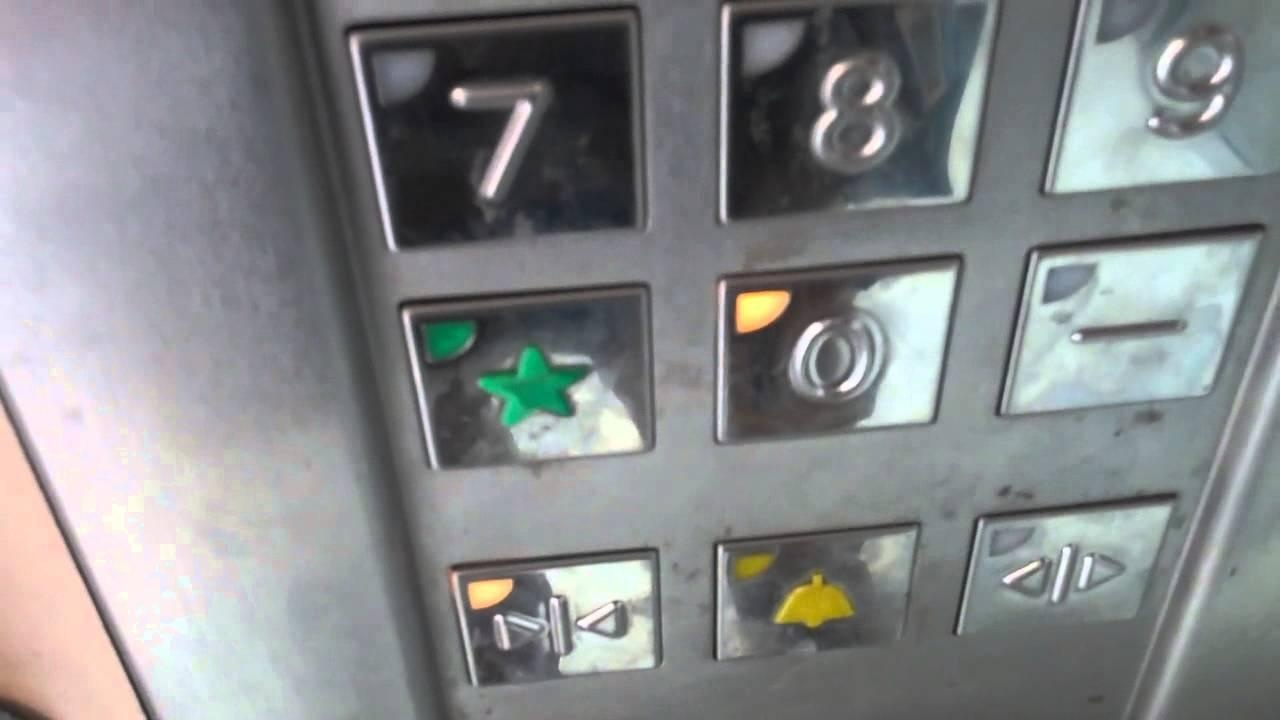-: (994, 224, 1267, 420)
0: (712, 254, 961, 452)
7: (345, 9, 655, 258)
8: (709, 1, 1004, 224)
9: (1043, 1, 1276, 205)
alarm: (709, 520, 918, 671)
close: (447, 540, 667, 687)
open: (947, 493, 1178, 650)
s: (390, 285, 661, 479)
